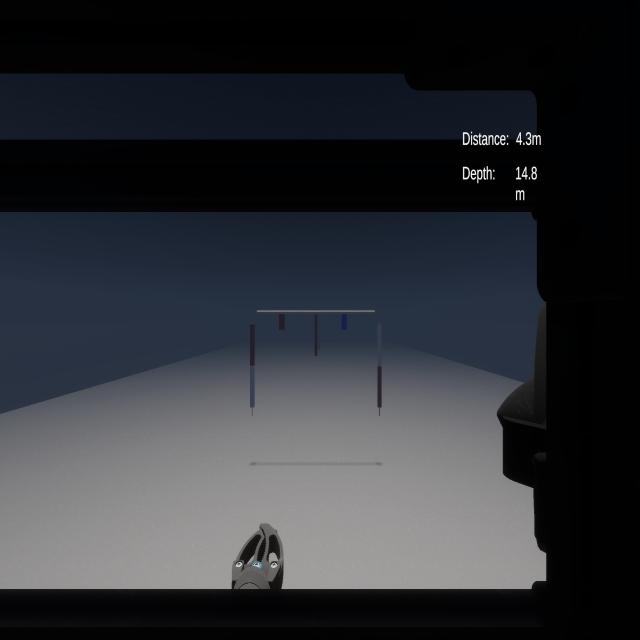Depth: (461, 156, 546, 210)
Distance: (460, 127, 544, 152)
Gate: (249, 305, 385, 421)
